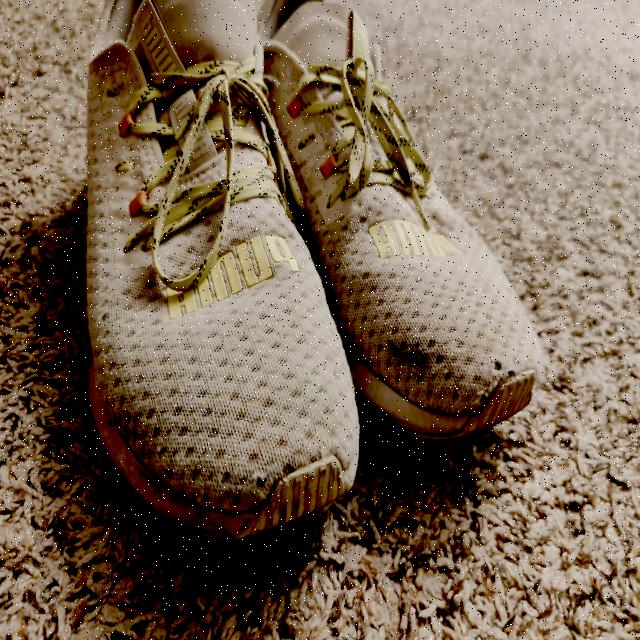white shoes: (104, 12, 358, 510)
